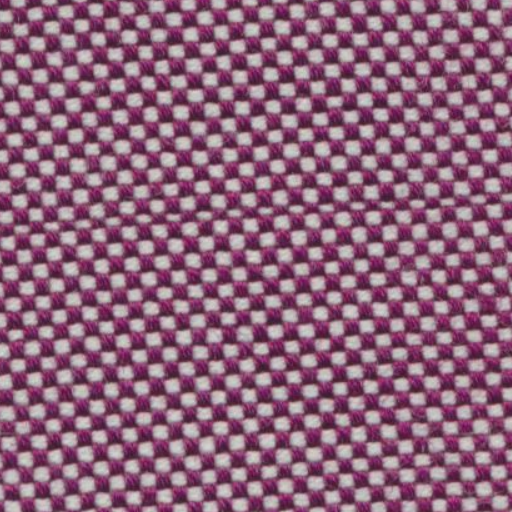TuoSha: (10, 174, 500, 254)
